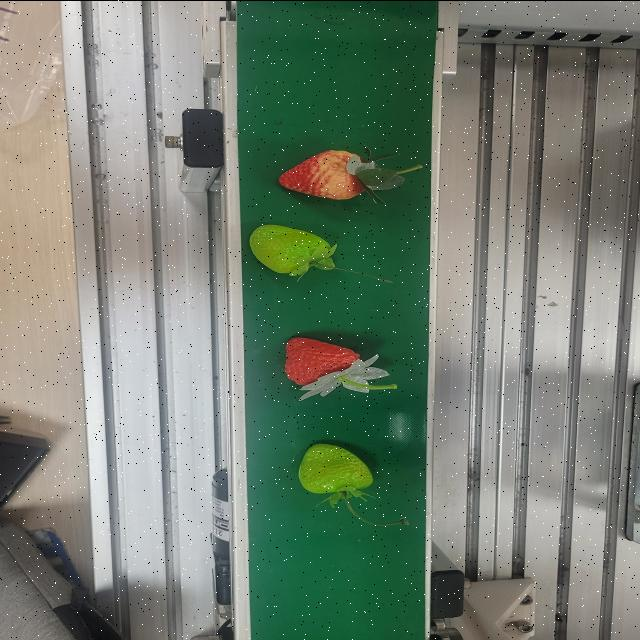Moldy Strawberry: (279, 144, 415, 204)
Small Ripe Strawberry: (282, 333, 396, 397)
Small Unripe Strawberry: (248, 220, 346, 280), (296, 438, 378, 502)
